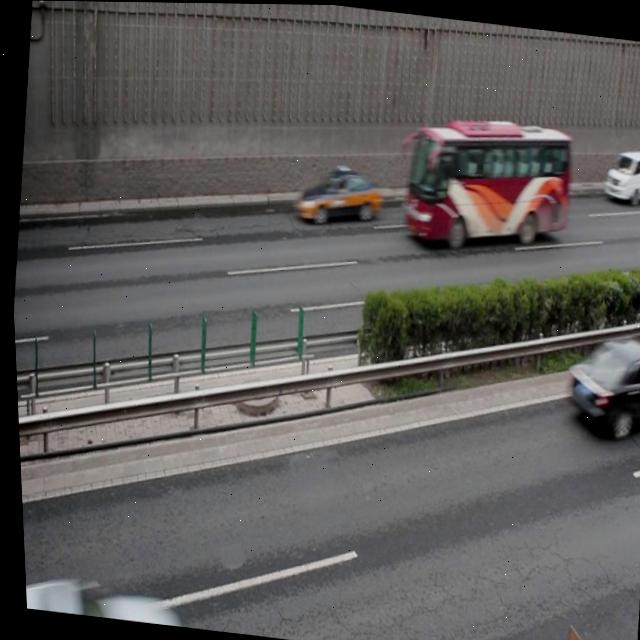car: (554, 326, 640, 437), (288, 159, 383, 229)
truck: (597, 142, 640, 205)
van: (396, 109, 575, 254)
